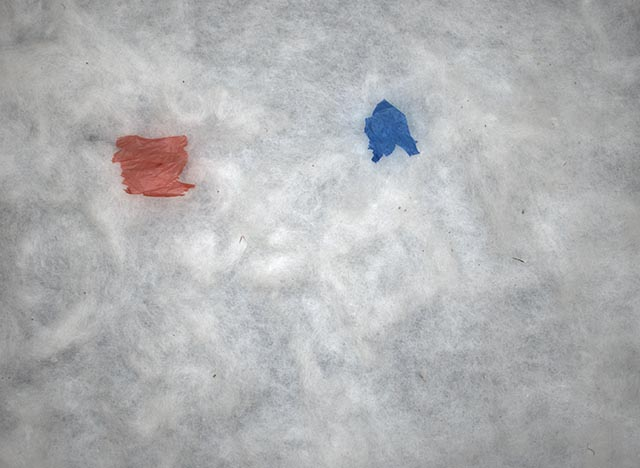plastic film: (111, 133, 196, 199), (363, 97, 421, 164)
